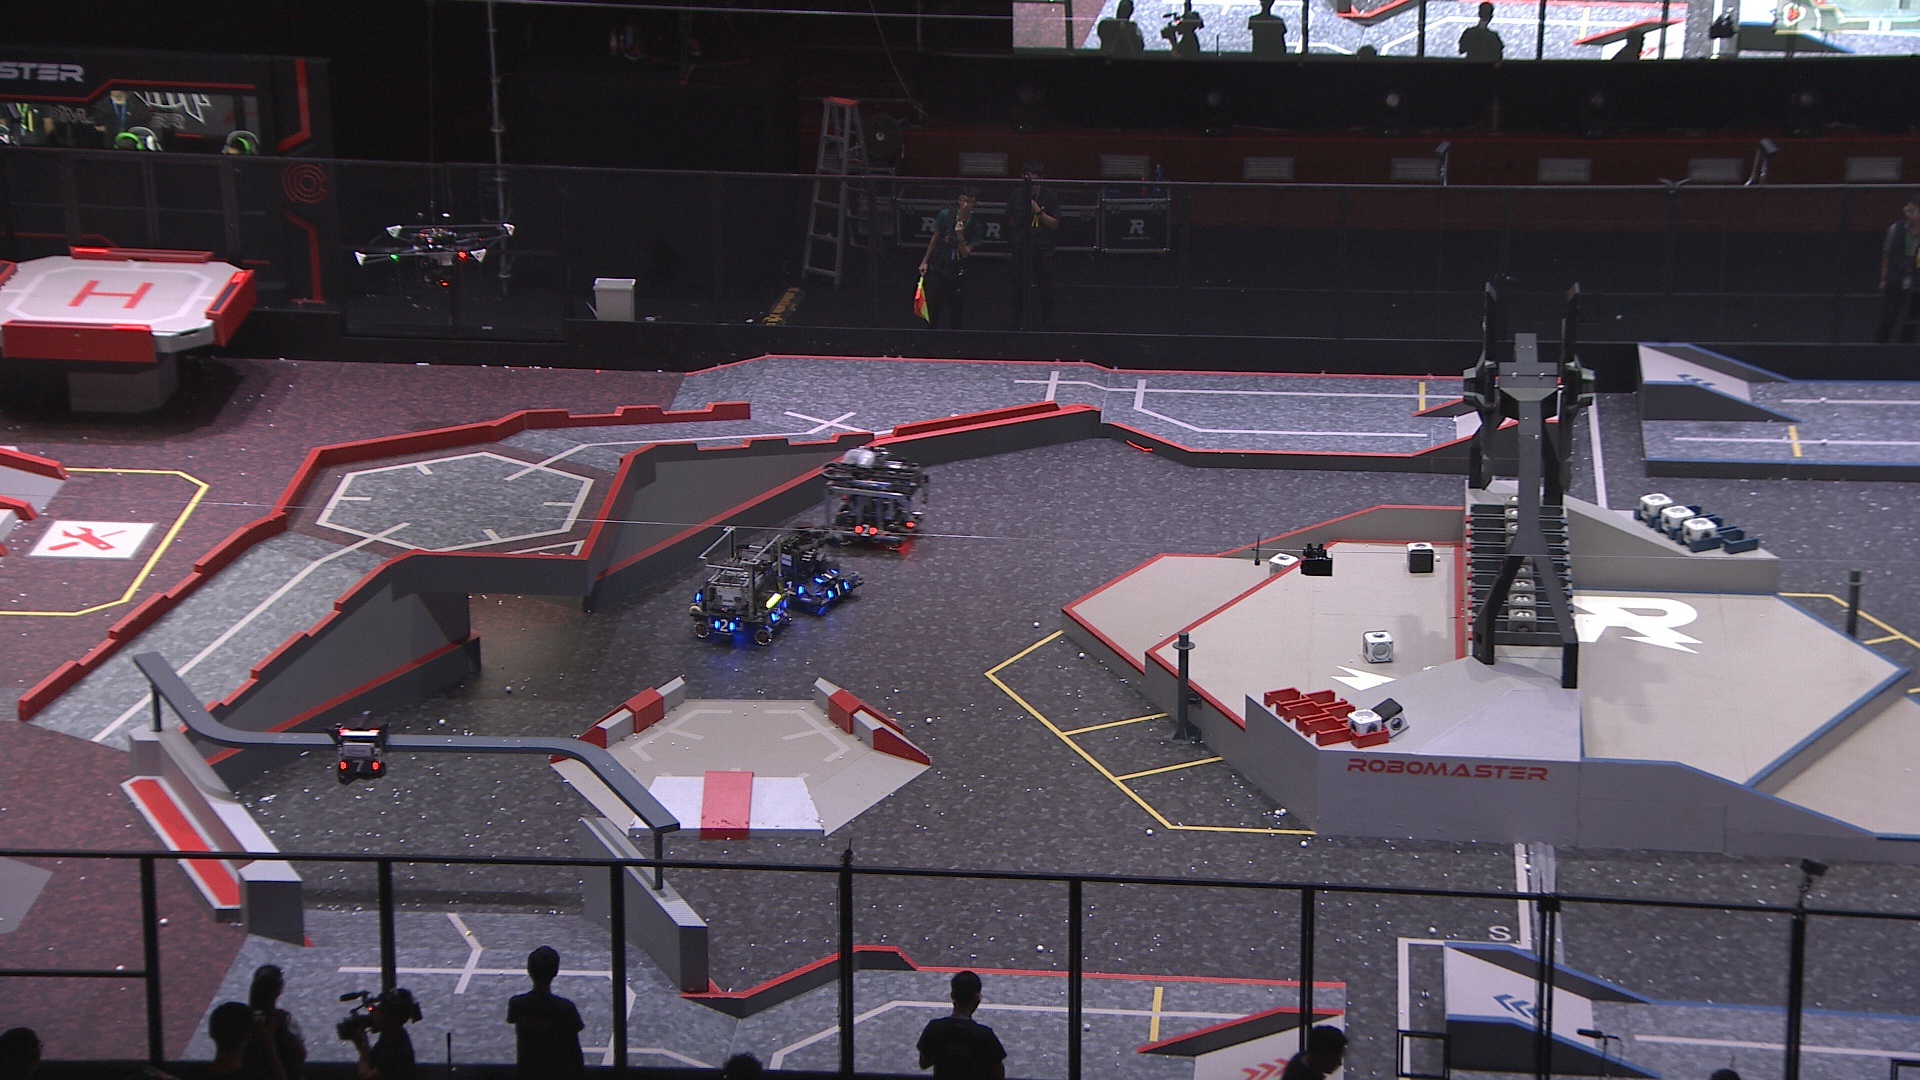armor: (338, 757, 381, 774), (851, 522, 880, 541), (814, 567, 840, 585), (712, 617, 737, 633), (783, 580, 804, 597), (828, 582, 851, 597), (770, 605, 785, 624)
car: (686, 527, 793, 646), (818, 450, 927, 556), (761, 524, 866, 618)
watcher: (328, 708, 390, 785)
